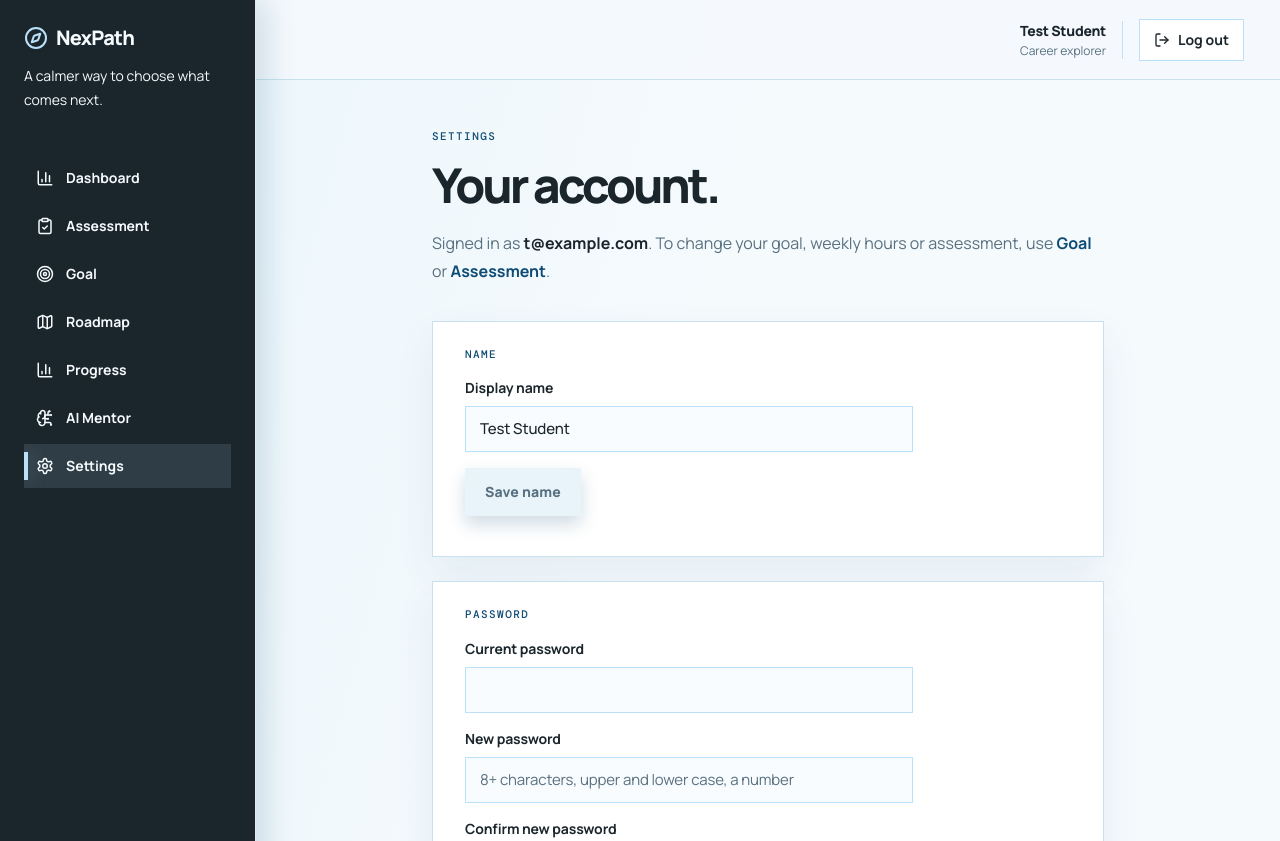
Scenario: settings page › shows the server error for a bad name
The width and height of the screenshot is (1280, 841).
Replace the text in the field labelled "Display name" with "A" at (689,429), box [465,406,913,452]
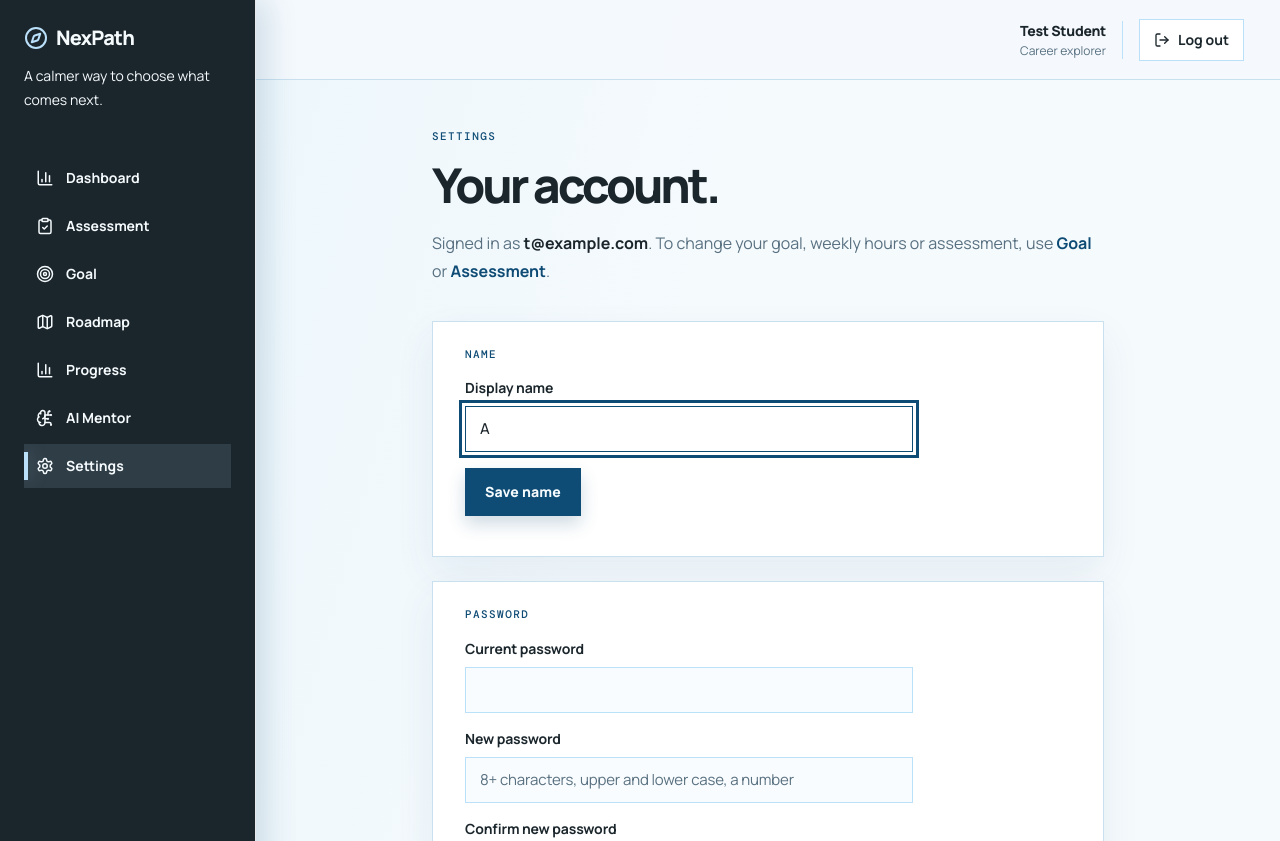
Click the button "Save name".
click(523, 492)  # box [465,468,581,516]
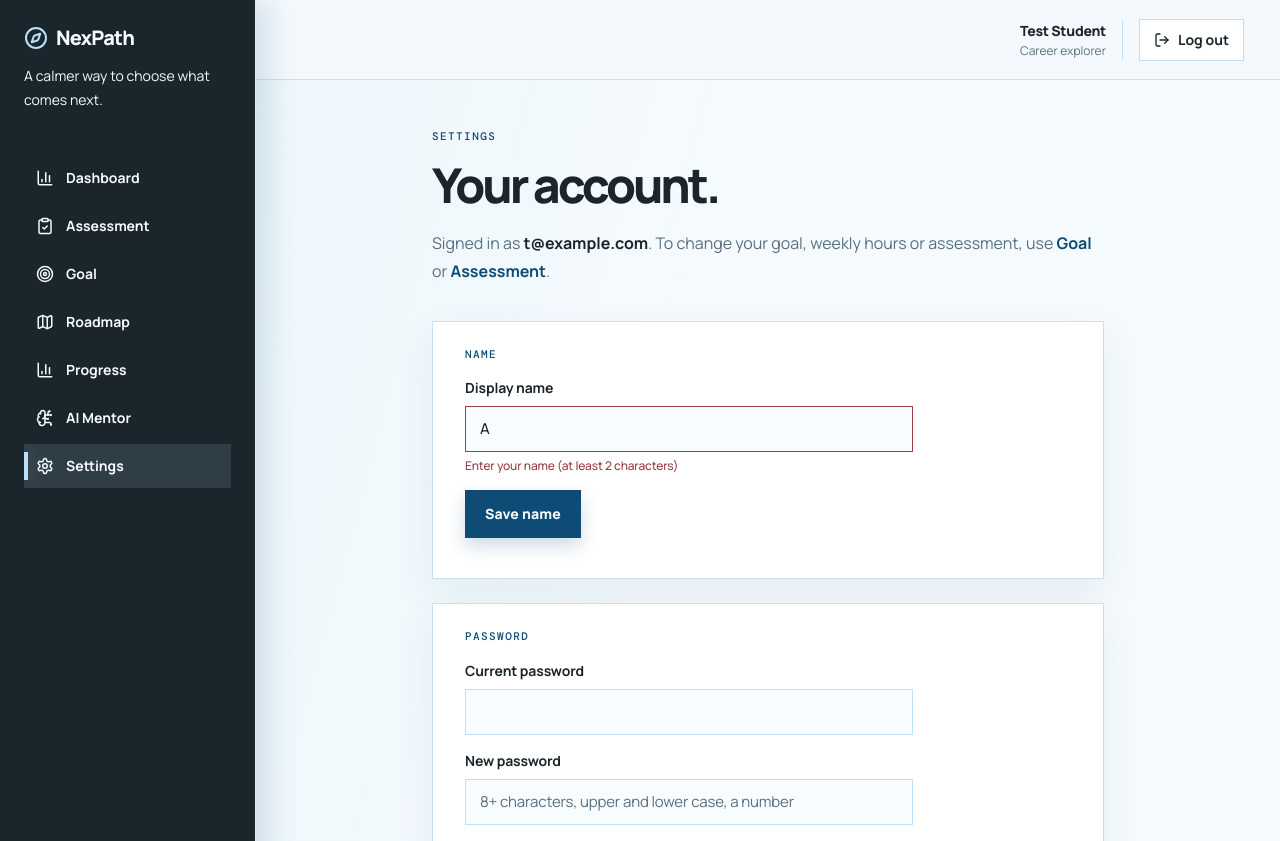
Expected: the text "Enter your name (at least 2 characters)" is shown, [465,457,678,474]
